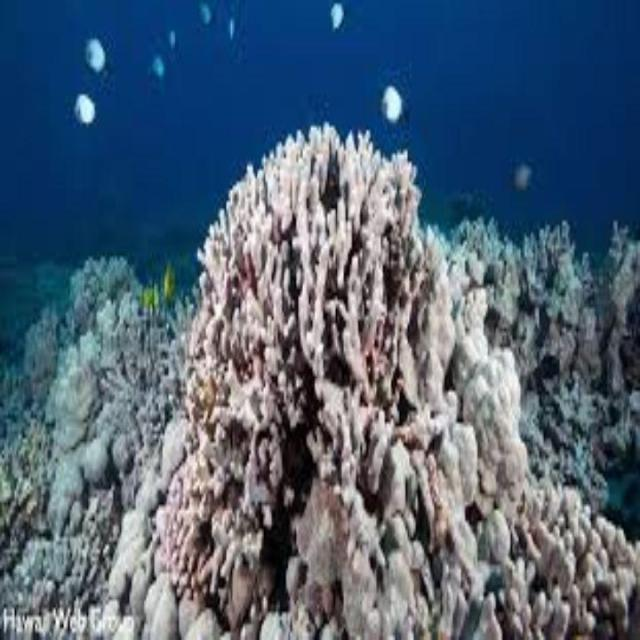Dead Coral: (101, 111, 606, 590)
